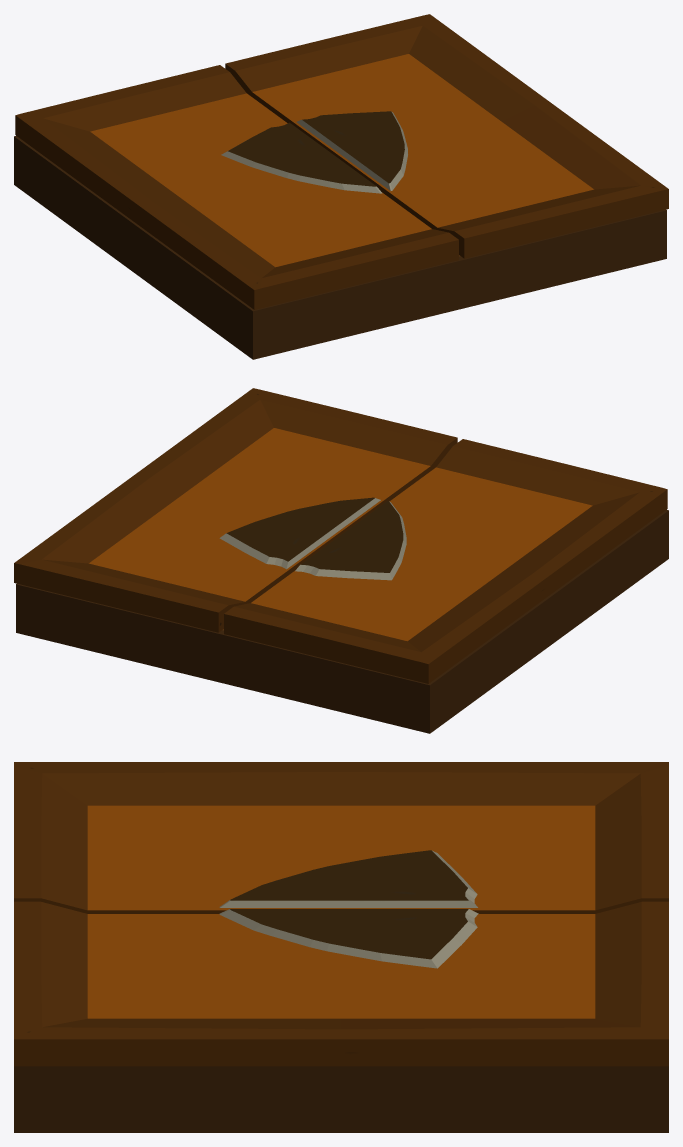
File: cardbox.fbx
3 renders of one model, top to bottom at view 1: azimuth 30°, elevation 25°; view 2: azimuth 150°, elevation 25°; view 3: azimuth 270°, elevation 25°, orthographic. The views are drawn at different scales.
Parts seen in each view (by area): view 1: Cube.005, Cube.006, Cube; view 2: Cube.005, Cube.006, Cube; view 3: Cube.006, Cube.005, Cube.
Part boxes in pixels (x1,y1,x2,y2): Cube.005: [15, 65, 458, 309]; Cube.006: [225, 14, 668, 258]; Cube: [14, 136, 666, 359]; Cube.005: [224, 439, 667, 683]; Cube.006: [14, 388, 457, 632]; Cube: [16, 510, 668, 733]; Cube.006: [14, 901, 668, 1066]; Cube.005: [14, 762, 668, 913]; Cube: [14, 1066, 668, 1132].
Size of the model in its own units: 201 by 32.18 by 200.
Materials: 2 (2 with a texture image).
